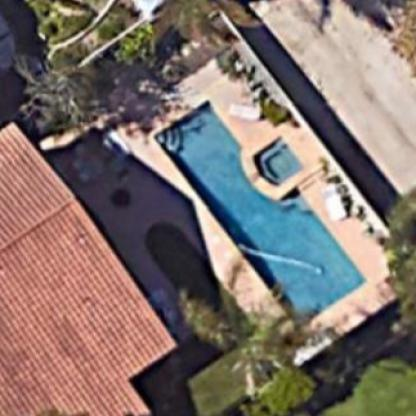pool: (148, 94, 378, 330)
